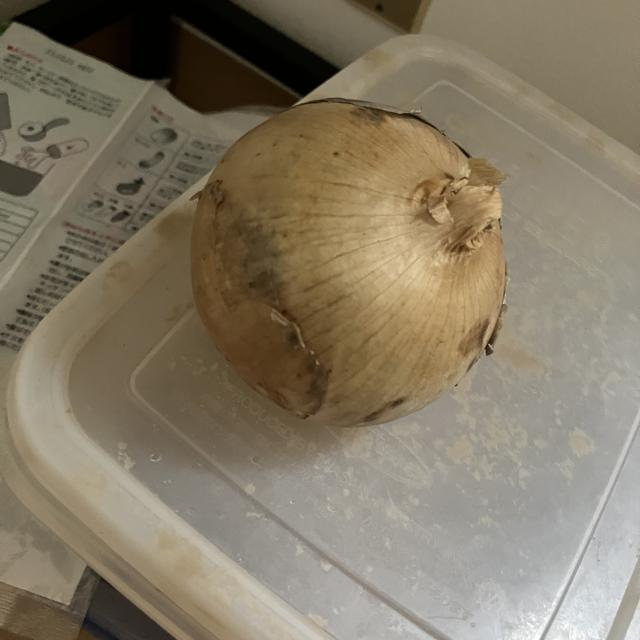onion: (188, 93, 514, 431)
